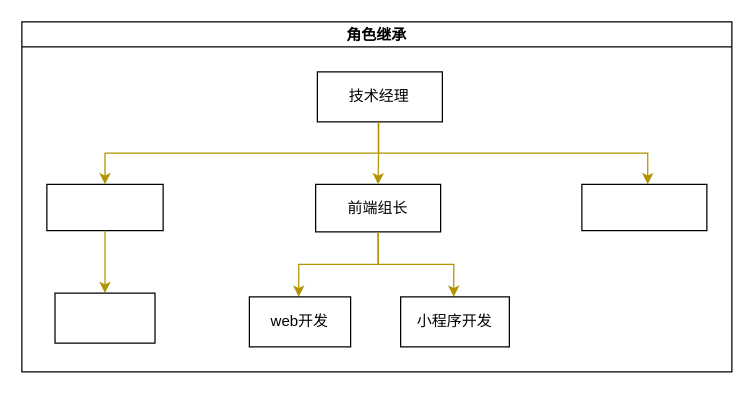
This 754x394 diagram has some shape labels left out. The shapes that lost their labels are listed below. From the top down, each one's centre as x and y in pixels, then its label:
At pixel 104 207: "后台组长".
At pixel 644 207: "AI组长".
At pixel 104 317: "JAVA开发".
